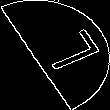L_SW: (17, 29, 93, 81)
